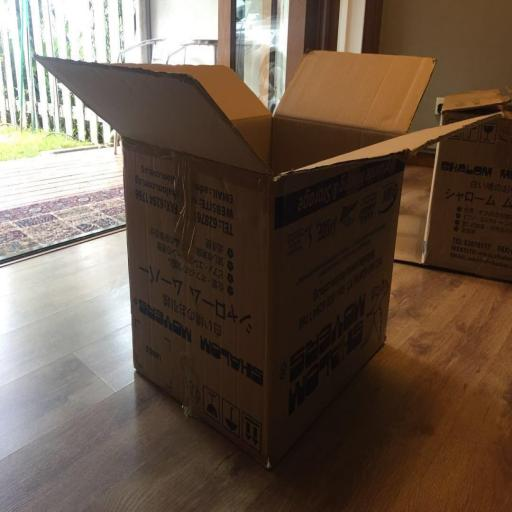cardboard: (32, 48, 504, 474), (419, 82, 512, 286)
